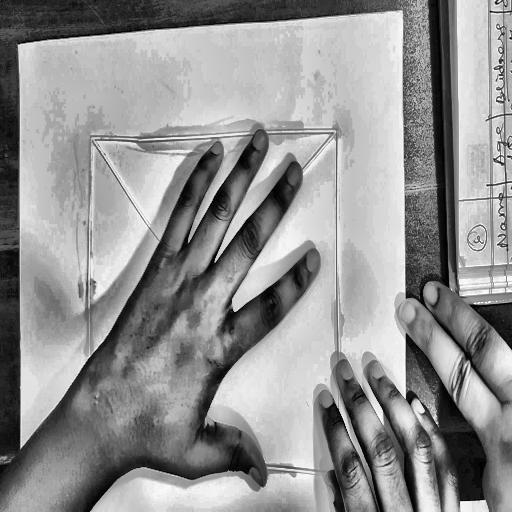envelop: (81, 121, 344, 485)
top_left: (15, 39, 22, 53)
top_right: (399, 6, 406, 20)
